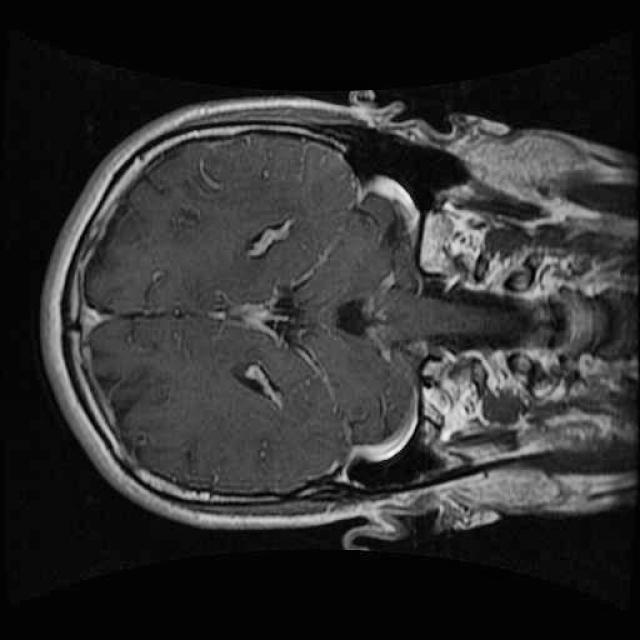Non-Tumor: (328, 274, 415, 355)
